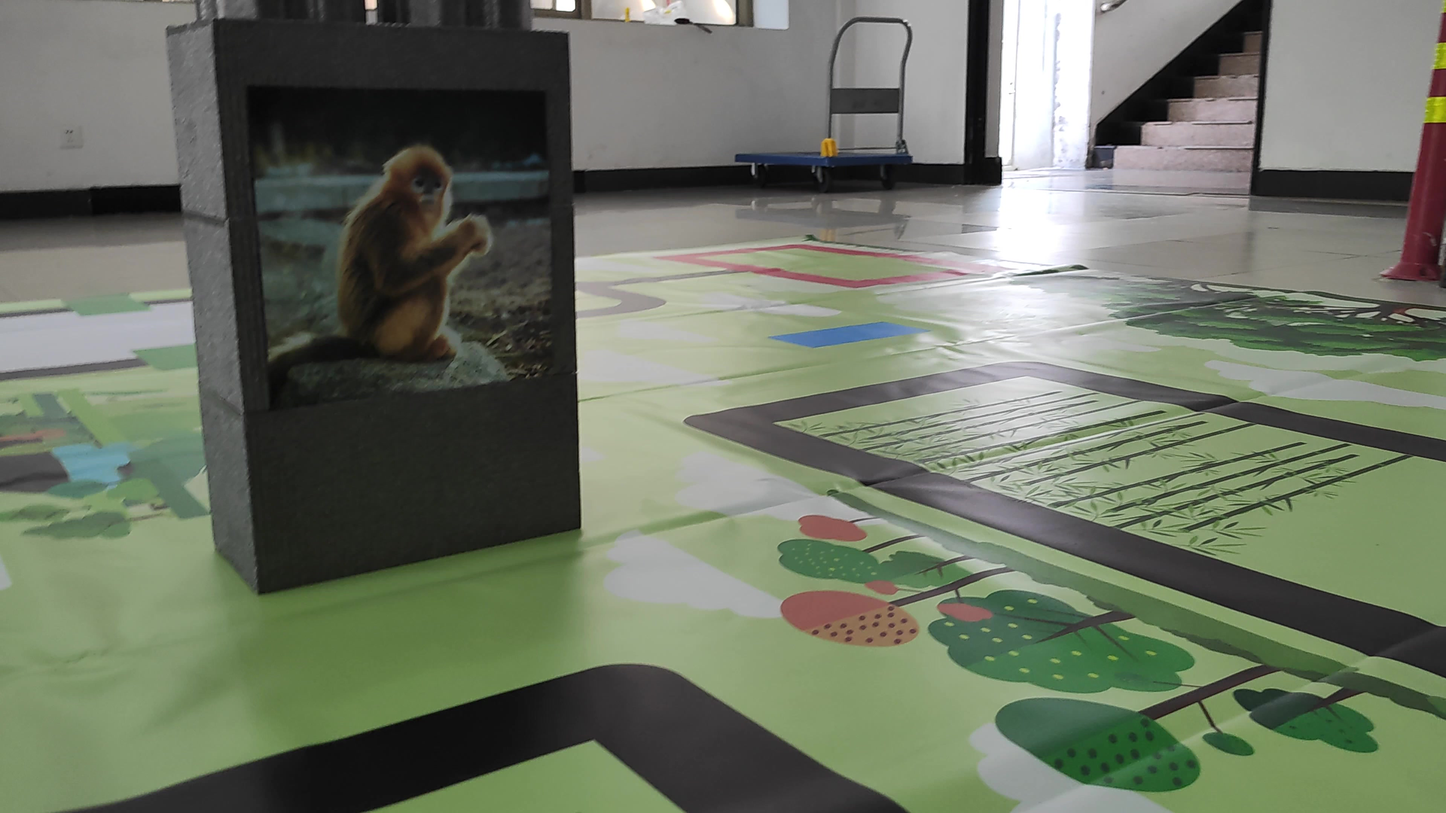monkey: (284, 121, 510, 382)
